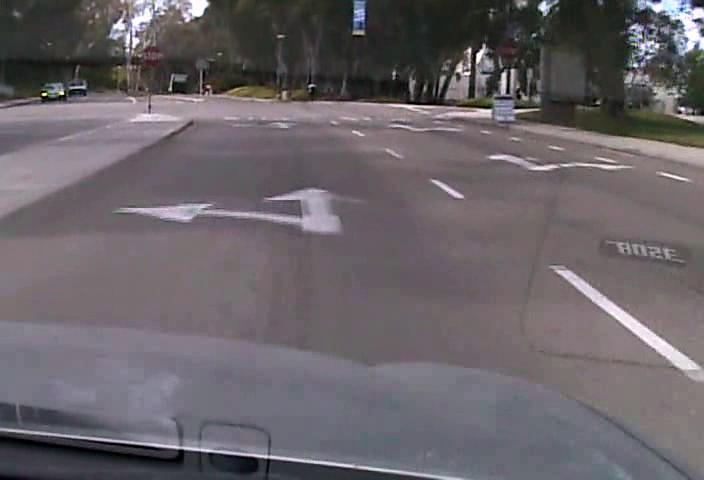stop: (138, 44, 162, 66)
